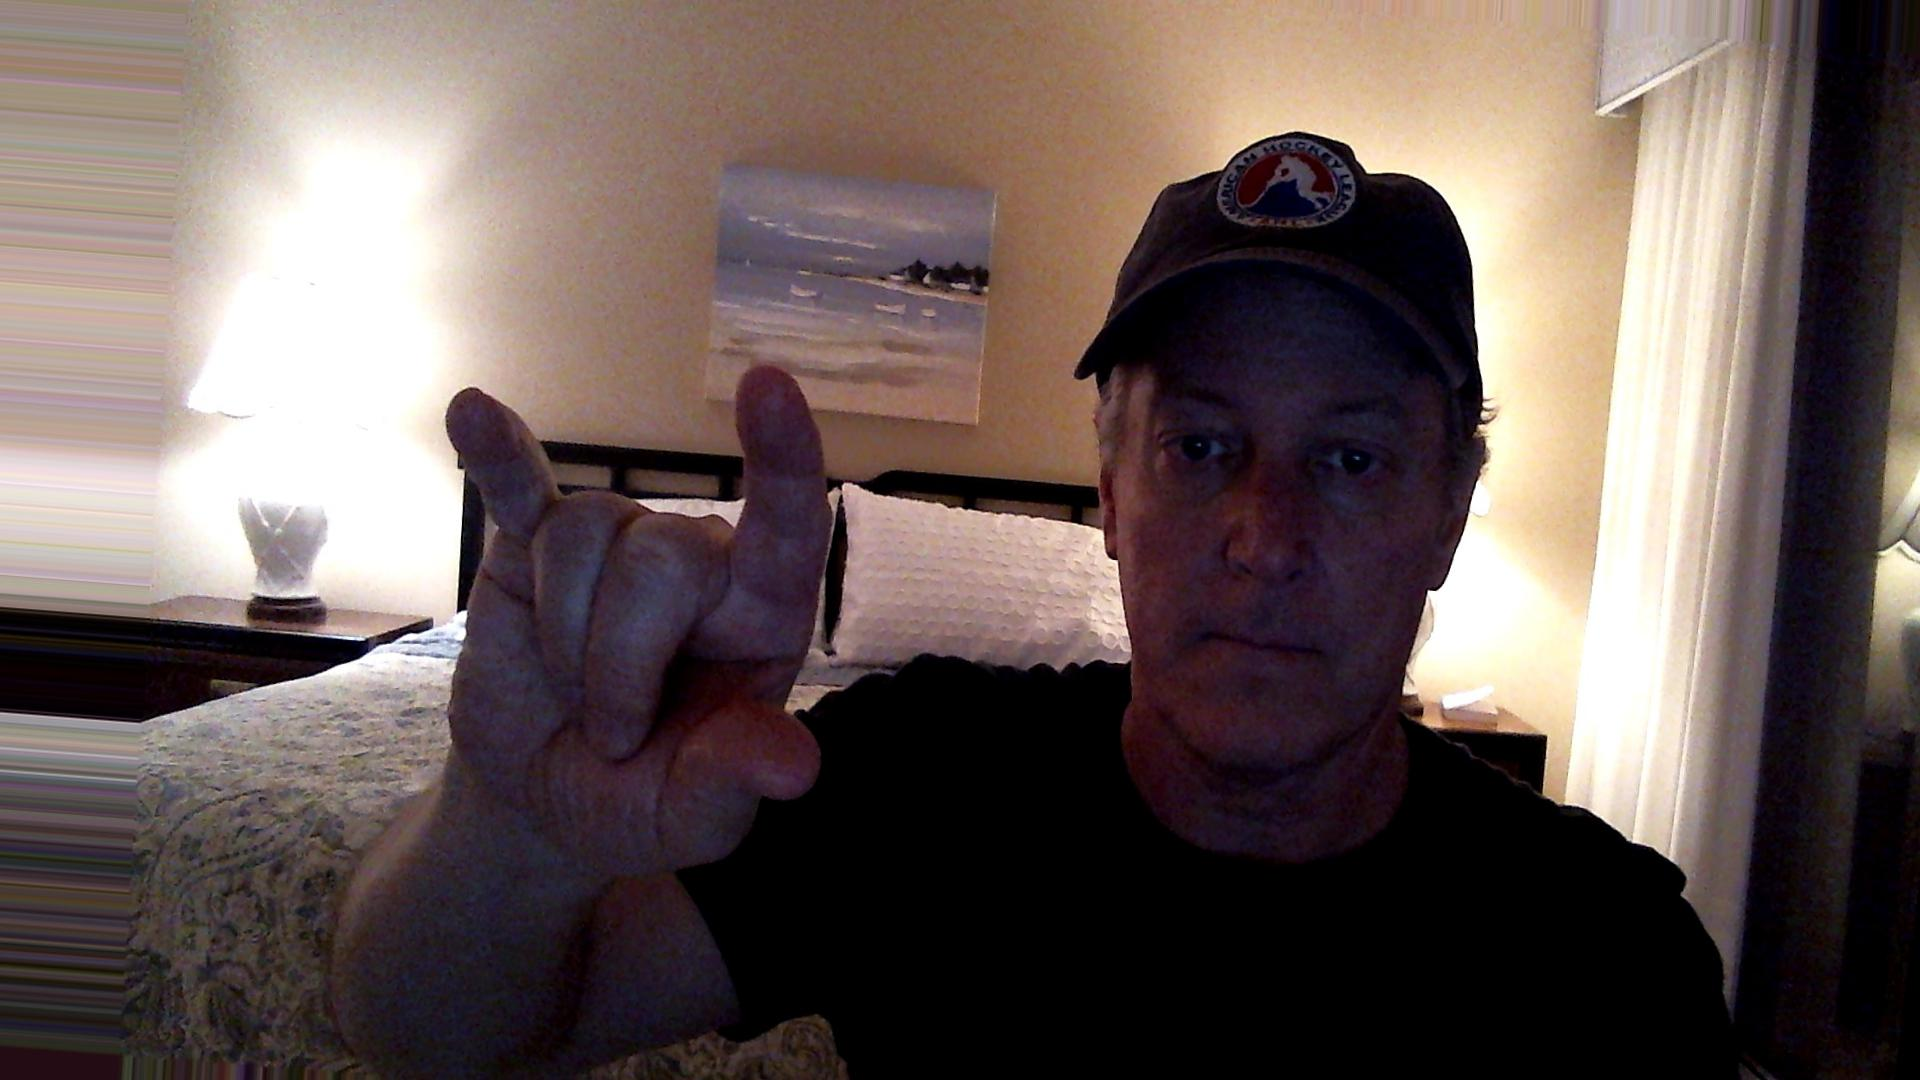I Love You: (433, 345, 849, 905)
